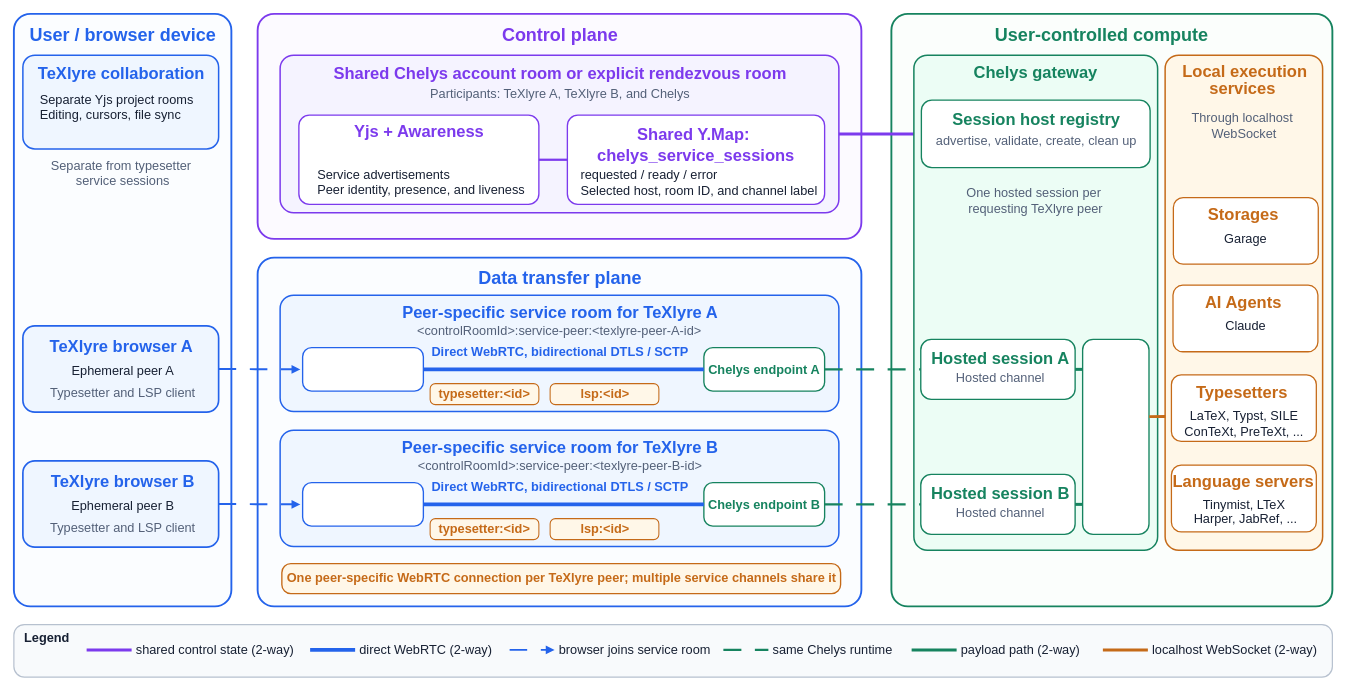
The diagram is 1346 pixels wide and 691 high, and some of its shapes have lost their labels. The shapes that lost their labels are listed below. From the top down, each one's centre as x and y in pixels, then its label:
At (363,369): "TeXlyre A endpoint".
At (1115,436): "Recipe Bridge".
At (363,504): "TeXlyre B endpoint".
